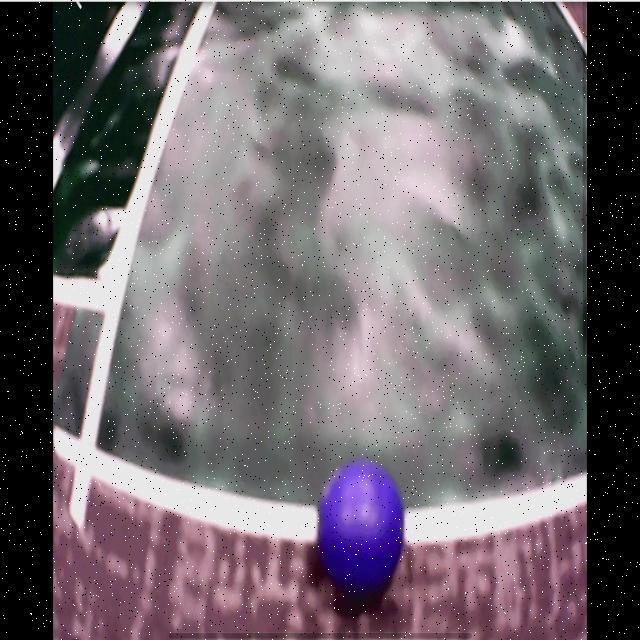ball: (319, 460, 405, 597)
